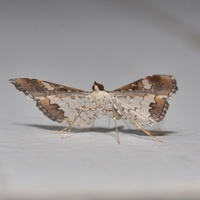insect: (9, 75, 177, 142)
